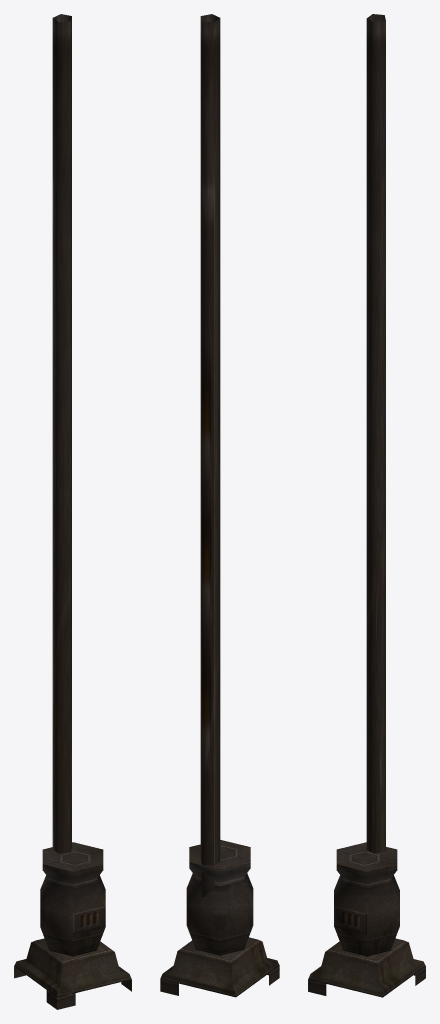
File: stove_potbelly.fbx
The picture shows the model from 3 angles, left to right: view 1: azimuth 30°, elevation 25°; view 2: azimuth 150°, elevation 25°; view 3: azimuth 330°, elevation 25°; orthographic projection.
Parts seen in each view (by area): view 1: stove_pipe, stove_belly, stove_base, stove_leg1; view 2: stove_pipe, stove_belly, stove_base; view 3: stove_pipe, stove_belly, stove_base.
Boxes of the visible parts, box(x1,y1,x2,y2) form: stove_pipe: box(52, 14, 71, 853); stove_belly: box(40, 842, 105, 956); stove_base: box(14, 938, 131, 997); stove_leg1: box(46, 990, 75, 1009); stove_pipe: box(200, 14, 220, 897); stove_belly: box(186, 840, 253, 955); stove_base: box(160, 937, 279, 997); stove_pipe: box(366, 14, 385, 853); stove_belly: box(334, 842, 399, 956); stove_base: box(308, 938, 425, 997).
Size of the model in its own units: 203 by 2499 by 204.
Materials: 2 (2 with a texture image).
